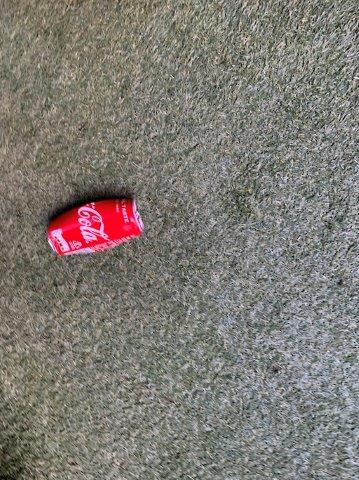kaleng: (48, 200, 143, 255)
